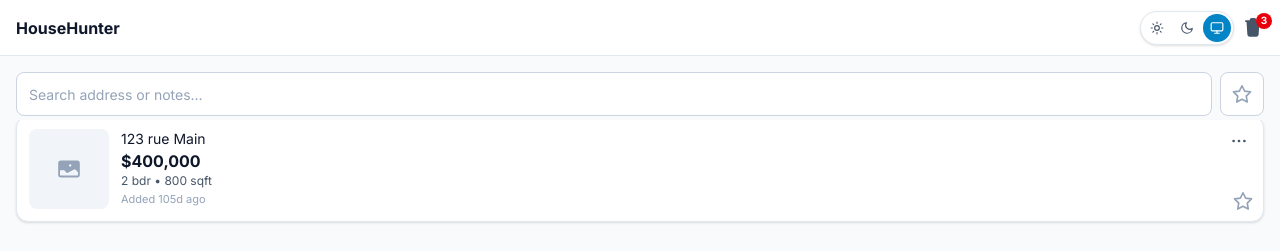
/recent page › shows the no-match state and its Clear button resets both filters
This screenshot has width=1280, height=251.
Type "zzzz" into the field named "search listings" at (614, 94), box [16,72,1212,116]
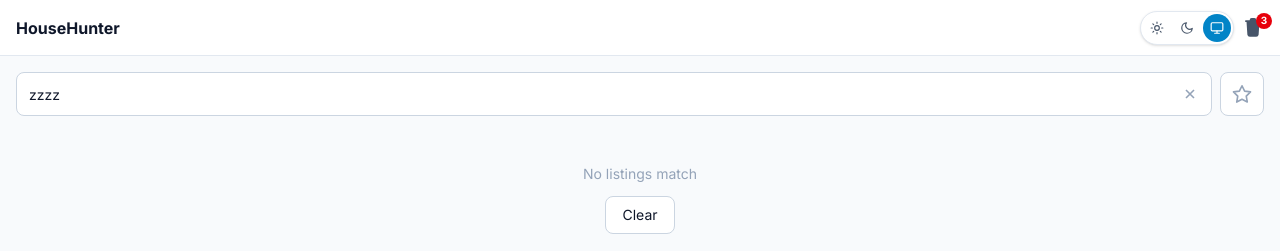
Click the button named "favorites only" at (1242, 94), box [1220,72,1264,116]
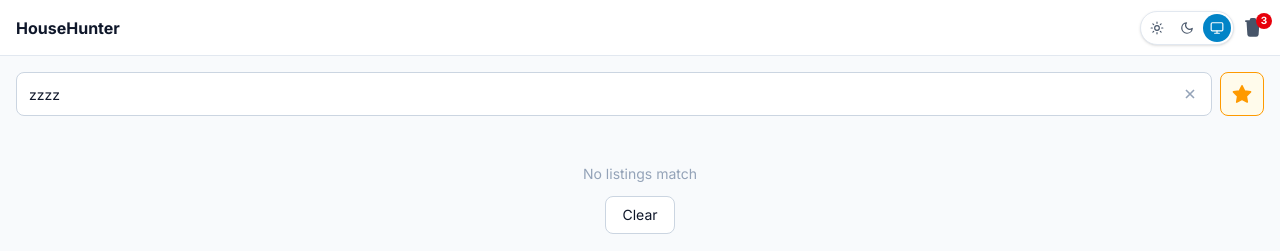
Result: the text "No listings match" is shown at [583,165,697,182]
Click the button "Clear" at (640, 215), box [606,196,675,234]
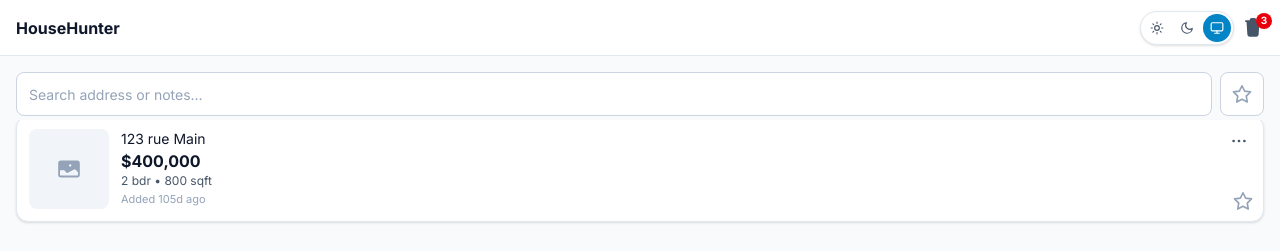
Result: the number of buttons with test id "listing-card-body" is 1 at [17,117,1263,221]
Result: the field named "search listings" is empty at [16,72,1212,116]
